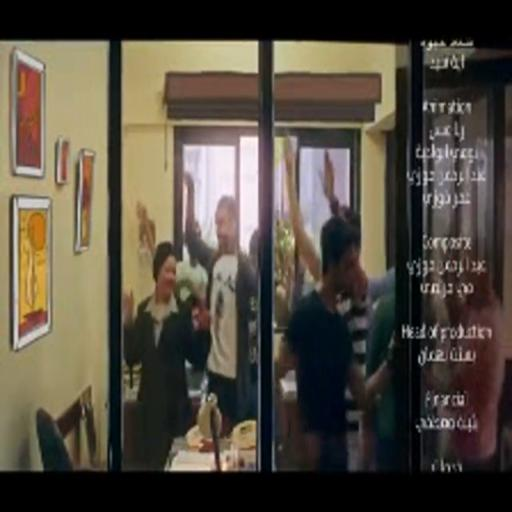nao-violencia: (119, 162, 262, 471)
